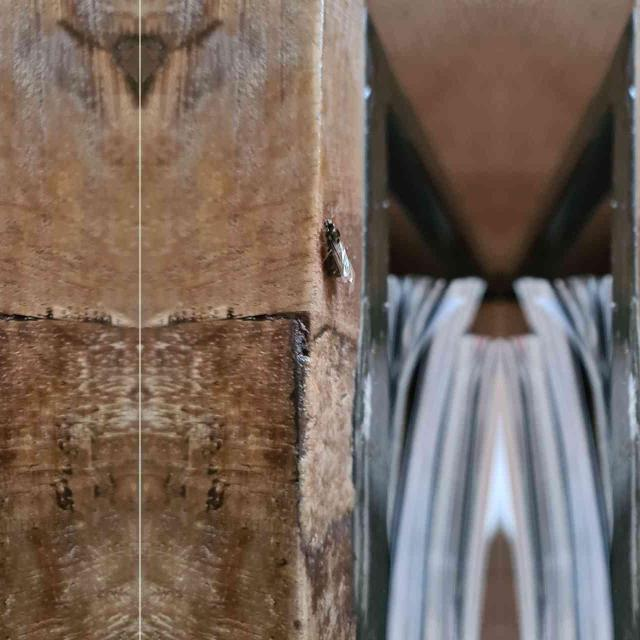Lasius: (312, 205, 358, 291)
